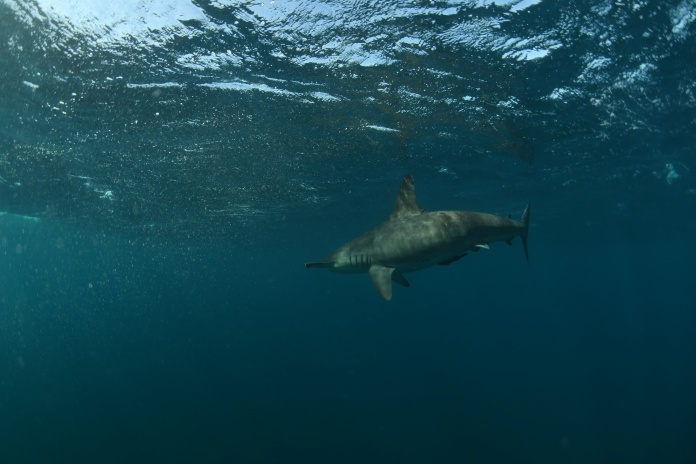Hammer: (301, 167, 536, 304)
